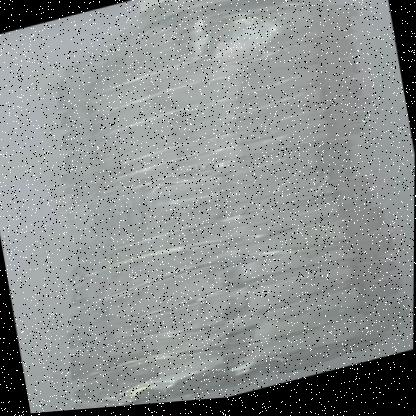bottle cap: (22, 1, 385, 146)
